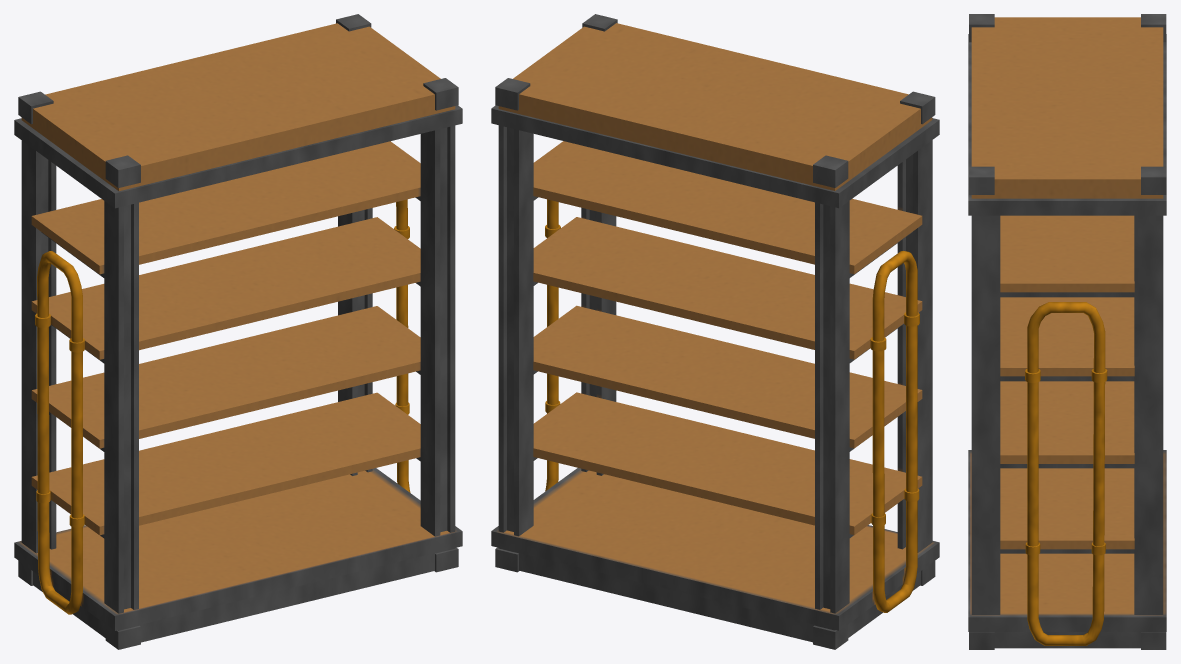
The model's file is IndustrialShelvesTall.fbx.
3 renders of one model, left to right at view 1: azimuth 30°, elevation 25°; view 2: azimuth 150°, elevation 25°; view 3: azimuth 270°, elevation 25°, orthographic.
Visible parts, largest first — view 1: IndustrialShelvesTall; view 2: IndustrialShelvesTall; view 3: IndustrialShelvesTall.
Part boxes in pixels (x1=…): IndustrialShelvesTall: x1=14, y1=14, x2=462, y2=649; IndustrialShelvesTall: x1=491, y1=14, x2=939, y2=649; IndustrialShelvesTall: x1=968, y1=14, x2=1166, y2=649.
Bounding box in the file's own units: 443 × 544 × 207.
1 material, 1 textured.
